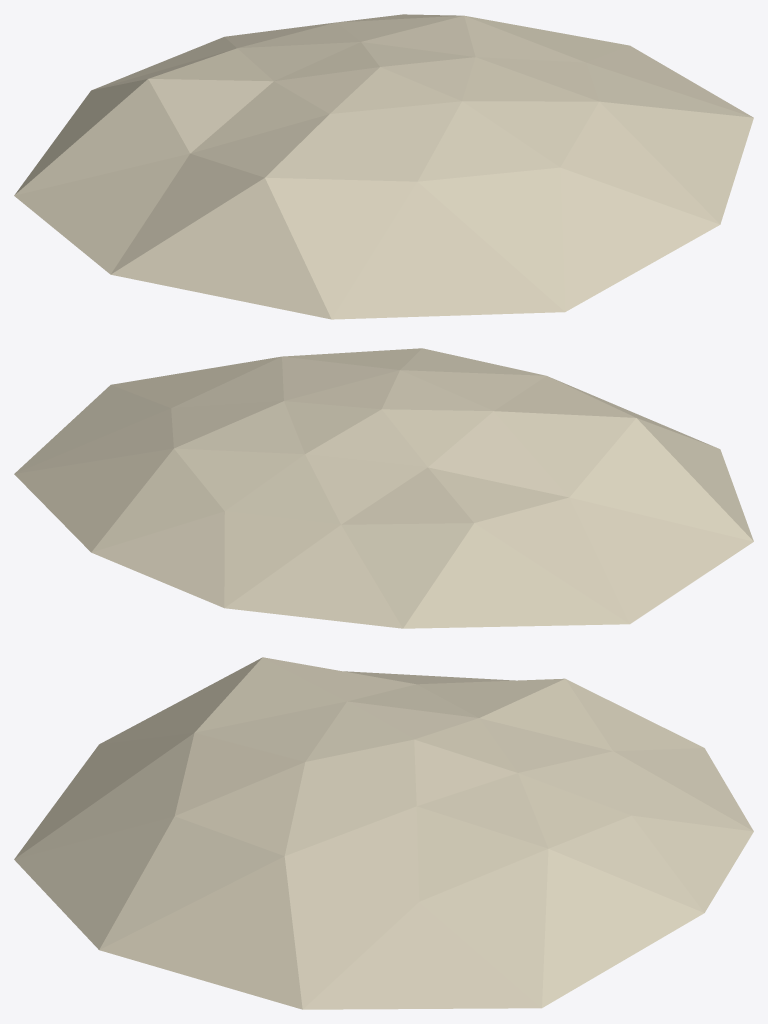
Rendered from Rubble.dae.
3 views of the same model, one above another, from view 1: azimuth 30°, elevation 25°; view 2: azimuth 150°, elevation 25°; view 3: azimuth 270°, elevation 25° (orthographic). The views are drawn at different scales.
Parts seen in each view (by area): view 1: Icosphere; view 2: Icosphere; view 3: Icosphere.
Boxes of the visible parts, x1,y1,x2,y2 form: Icosphere: (14, 14, 753, 319); Icosphere: (14, 348, 753, 628); Icosphere: (14, 657, 753, 1009).
Size of the model in its own units: 2.67 by 2.45 by 0.513.
